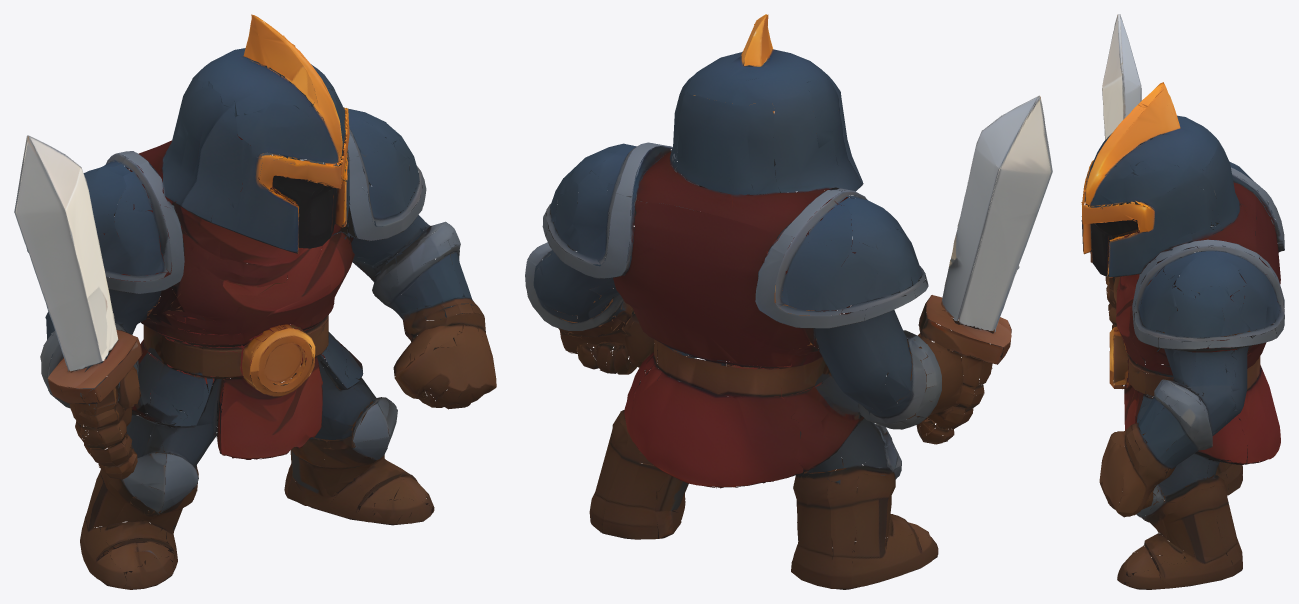
Rendered from caballeroDiez.glb.
3 renders of one model, left to right at view 1: azimuth 30°, elevation 25°; view 2: azimuth 150°, elevation 25°; view 3: azimuth 270°, elevation 25°, orthographic. The views are drawn at different scales.
Parts seen in each view (by area): view 1: model; view 2: model; view 3: model.
Boxes of the visible parts, x1,y1,x2,y2 form: model: (14,14,496,589); model: (525,14,1052,589); model: (1081,14,1284,589).
Bounding box in the file's own units: 1.84 × 1.9 × 0.7924.
Materials: 1 (1 with a texture image).
